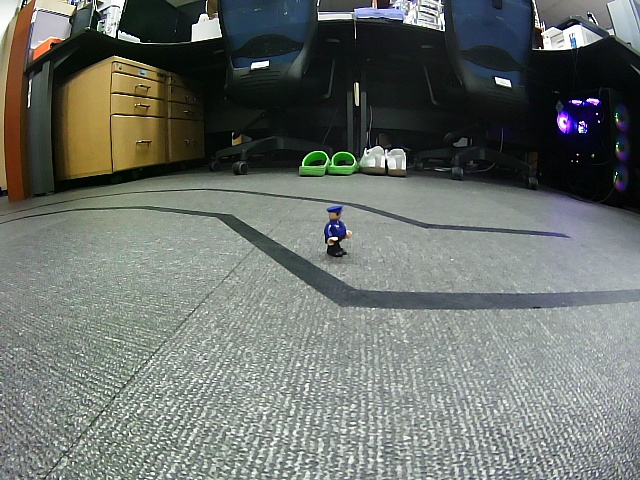person: (324, 204, 353, 259)
